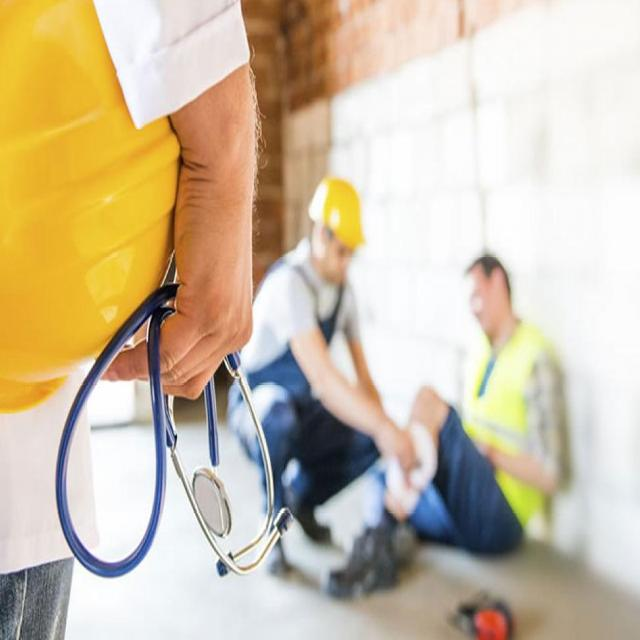Reflective-Jacket: (455, 321, 568, 524)
Safety-Helmet: (3, 1, 221, 411), (307, 171, 369, 254)
